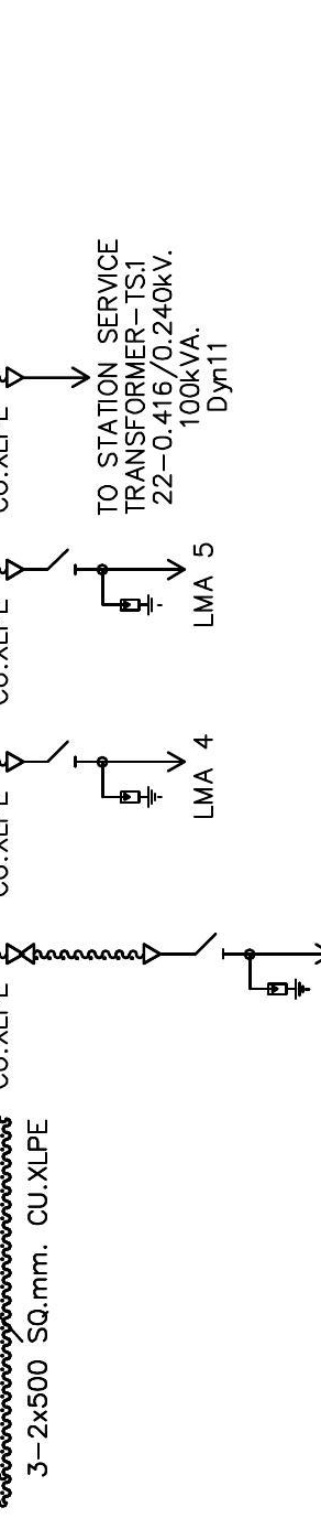22_ds_la_out: (46, 740, 187, 809), (46, 548, 187, 617)
terminator_single: (4, 557, 25, 582), (4, 364, 24, 389), (4, 749, 24, 774), (141, 941, 161, 966)
terminator_splicing_kits: (5, 942, 36, 966)
